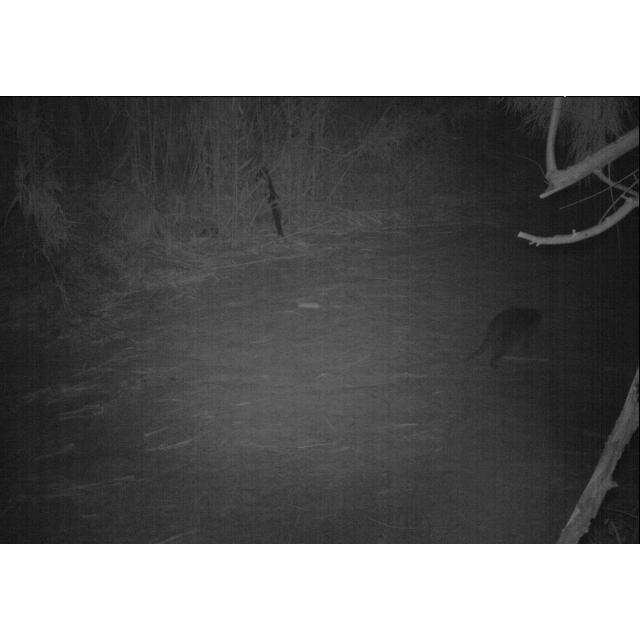animals: (470, 305, 542, 371)
